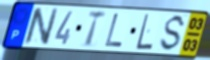4: (53, 10, 74, 46)
L: (103, 13, 124, 49), (135, 13, 154, 51)
N: (22, 7, 60, 47)
S: (158, 14, 188, 53)
T: (84, 9, 108, 48)
